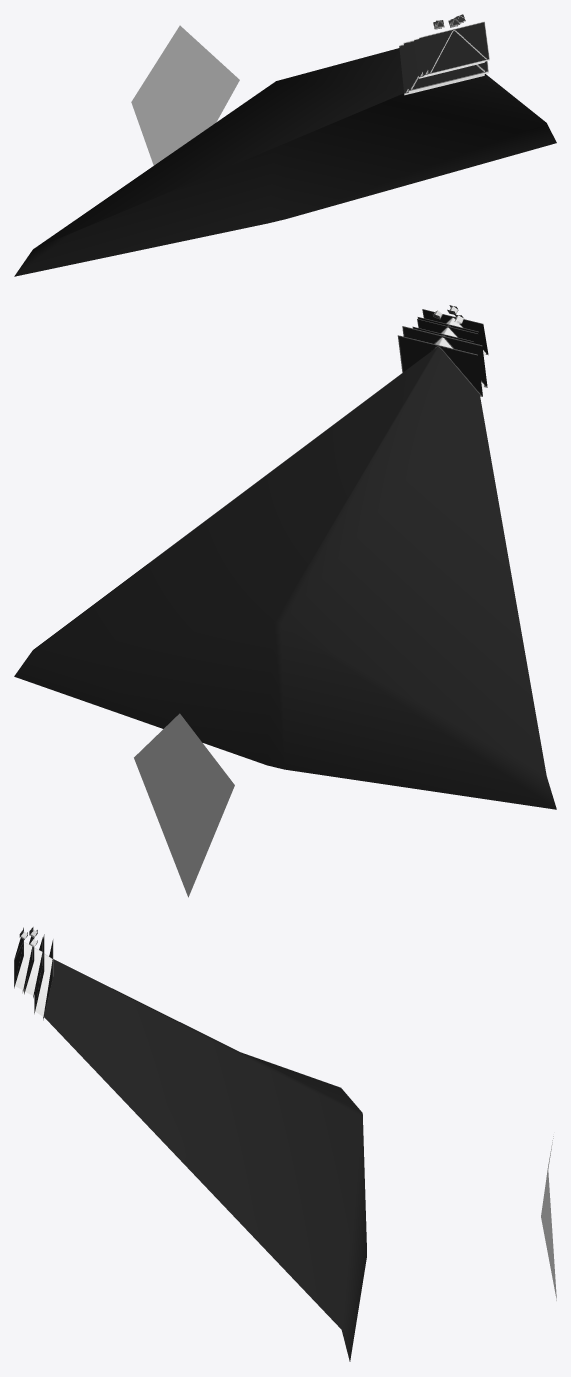
3 renders of one model, top to bottom at view 1: azimuth 30°, elevation 25°; view 2: azimuth 150°, elevation 25°; view 3: azimuth 270°, elevation 25°, orthographic. The views are drawn at different scales.
Parts seen in each view (by area): view 1: nero, Object.2, topgrande2, topgrande2.4, topgrande2.5; view 2: nero, Object.2, topgrande2.5, topgrande2.4; view 3: nero, Object.2.
Boxes of the visible parts, x1,y1,x2,y2 form: nero: [14, 48, 556, 276]; Object.2: [131, 25, 239, 165]; topgrande2: [423, 21, 489, 75]; topgrande2.4: [403, 40, 488, 92]; topgrande2.5: [399, 44, 484, 95]; nero: [14, 347, 556, 809]; Object.2: [134, 713, 234, 897]; topgrande2.5: [397, 335, 482, 396]; topgrande2.4: [402, 326, 487, 387]; nero: [44, 959, 366, 1361]; Object.2: [541, 1136, 556, 1300].
Bounding box in the file's own units: 2713 × 1854 × 2425.
Materials: 8 (5 with a texture image).
